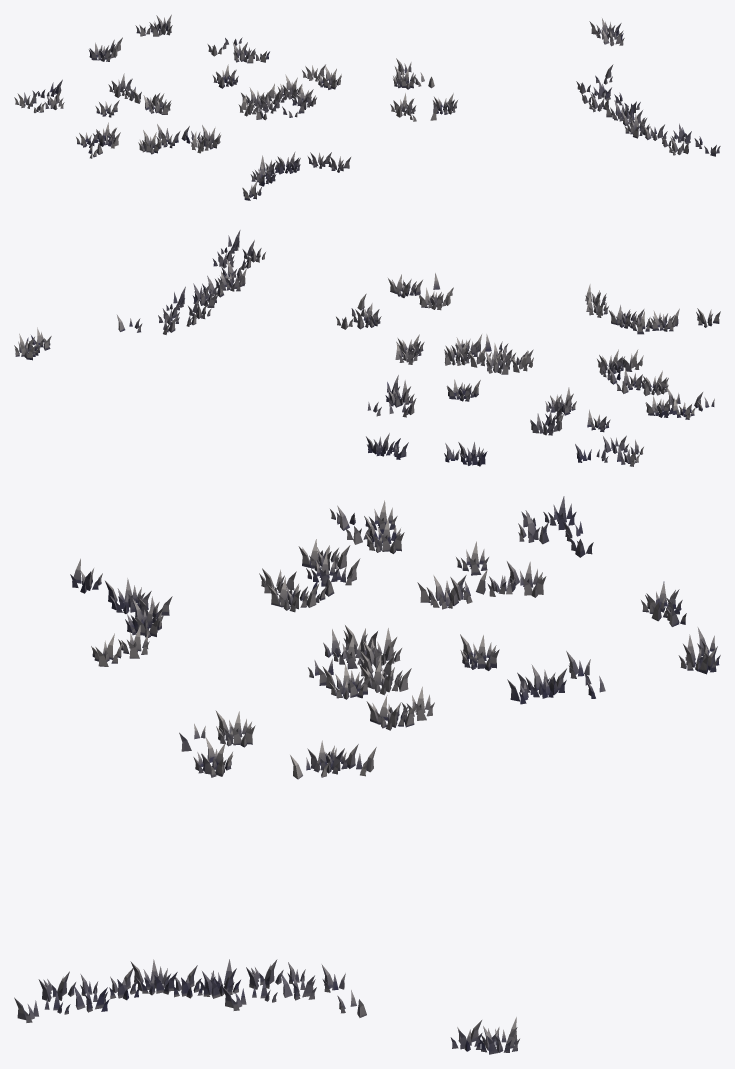
The model's file is Plant_01.FBX.
3 views of the same model, one above another, from view 1: azimuth 30°, elevation 25°; view 2: azimuth 150°, elevation 25°; view 3: azimuth 270°, elevation 25° (orthographic). The views are drawn at different scales.
Visible parts, largest first — view 1: Plant_01; view 2: Plant_01; view 3: Plant_01.
Boxes of the visible parts, x1,y1,x2,y2 form: Plant_01: (14,14,720,200); Plant_01: (14,230,720,466); Plant_01: (14,496,720,1054).
Bounding box in the file's own units: 31.42 × 3.52 × 20.63.
